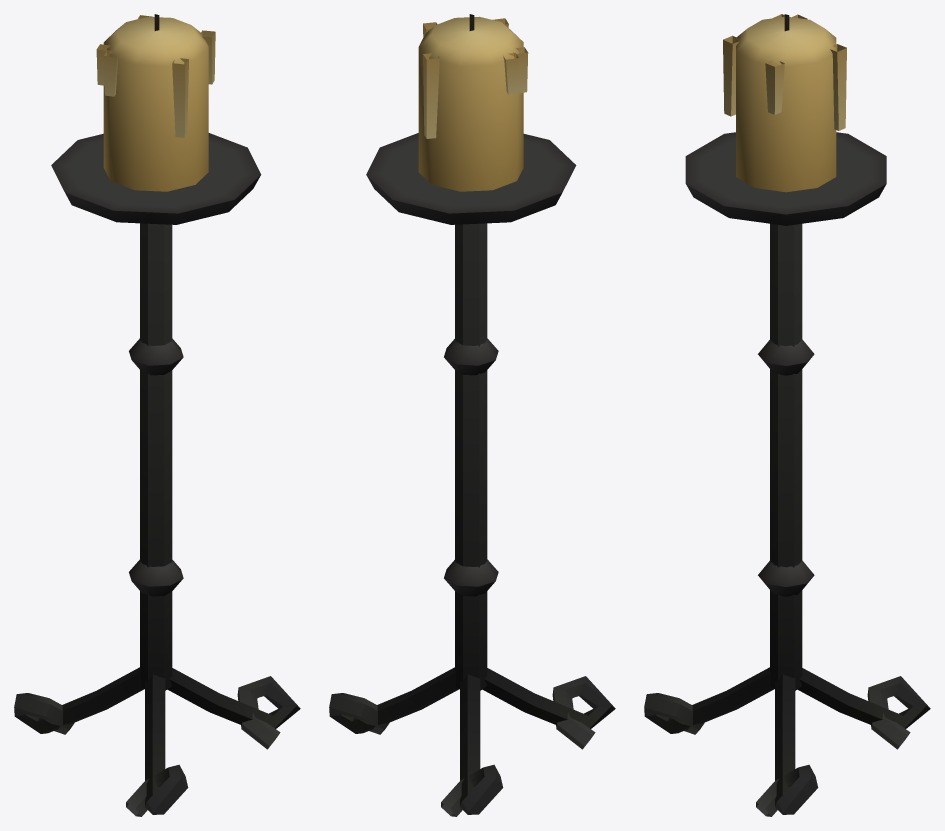
File: candle_stand.glb
3 views of the same model, side by side, from view 1: azimuth 30°, elevation 25°; view 2: azimuth 150°, elevation 25°; view 3: azimuth 270°, elevation 25° (orthographic).
Parts seen in each view (by area): view 1: candle_stand; view 2: candle_stand; view 3: candle_stand.
Part boxes in pixels (left/top/right/bottom): candle_stand: left=14, top=14, right=300, bottom=816; candle_stand: left=329, top=14, right=615, bottom=816; candle_stand: left=644, top=14, right=930, bottom=816.
Size of the model in its own units: 0.3333 by 1.02 by 0.3527.
